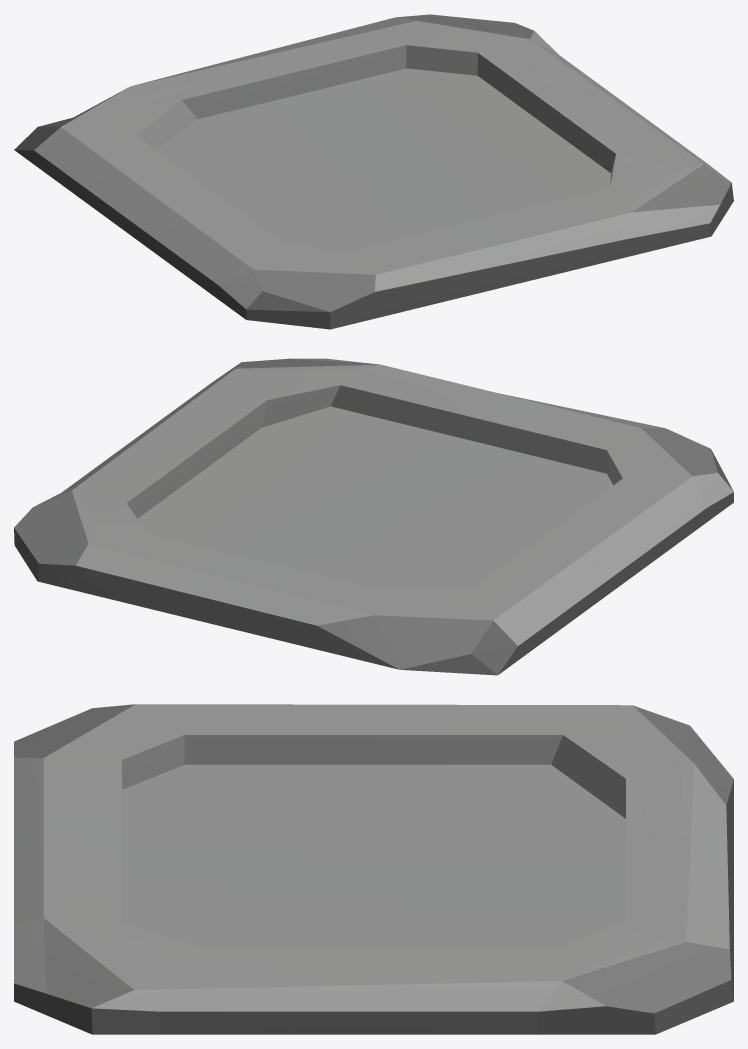
Rendered from rock_area.fbx.
The picture shows the model from 3 angles, top to bottom: view 1: azimuth 30°, elevation 25°; view 2: azimuth 150°, elevation 25°; view 3: azimuth 270°, elevation 25°; orthographic projection. The views are drawn at different scales.
Parts seen in each view (by area): view 1: rock_area; view 2: rock_area; view 3: rock_area.
Part boxes in pixels (x1=…): rock_area: x1=14, y1=14, x2=733, y2=329; rock_area: x1=14, y1=358, x2=733, y2=675; rock_area: x1=14, y1=704, x2=733, y2=1034.
Size of the model in its own units: 26.29 by 1.66 by 26.22.
